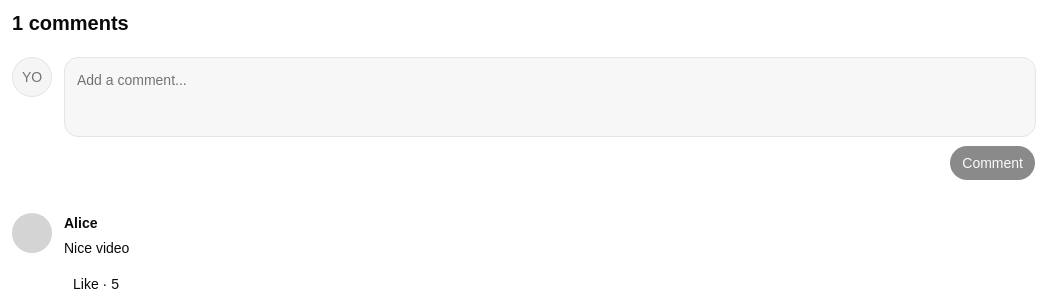
Test case: CommentsSection comment likes › submits a comment and calls the supplied callback
Type "  New comment  " into the text box with placeholder "Add a comment...".
click(550, 97); type("  New comment  ")  # box left=64, top=57, right=1036, bottom=137
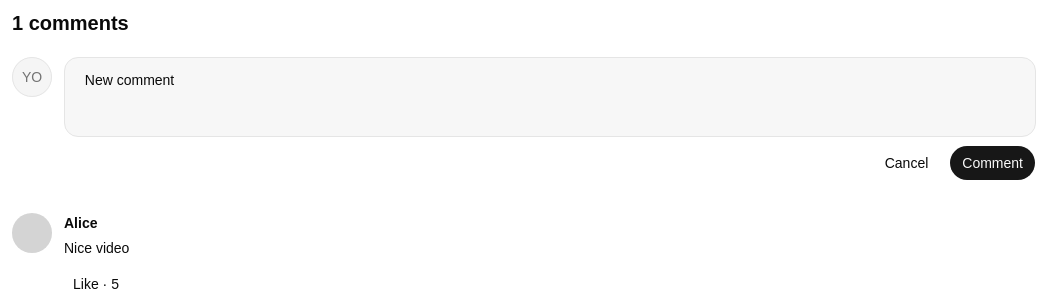
Click the button "Comment".
click(993, 163)  # box left=949, top=145, right=1036, bottom=181
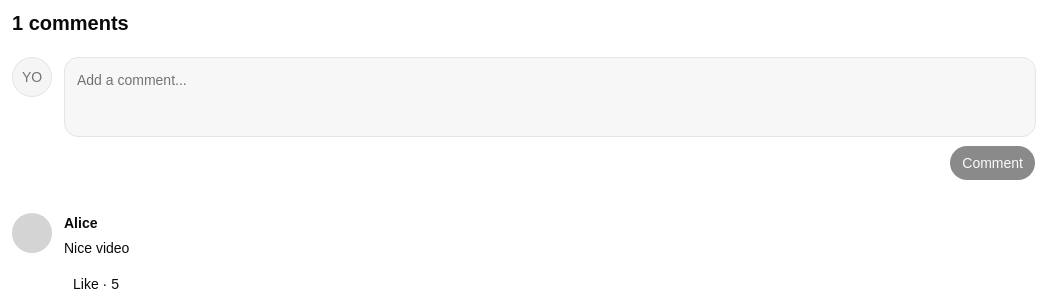
Check: the text box with placeholder "Add a comment..." is empty, box left=64, top=57, right=1036, bottom=137
